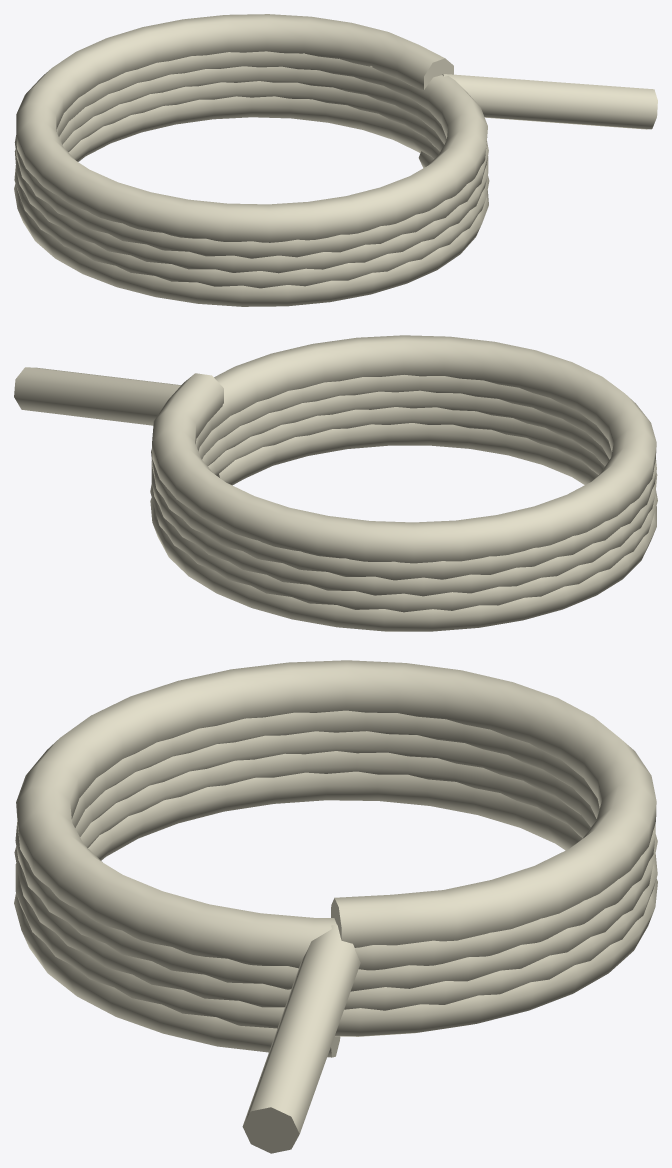
Rendered from scavengers-loot-library-rope-coil-2ec16a8d__2605.glb.
The picture shows the model from 3 angles, top to bottom: view 1: azimuth 30°, elevation 25°; view 2: azimuth 150°, elevation 25°; view 3: azimuth 270°, elevation 25°; orthographic projection. The views are drawn at different scales.
Visible parts, largest first — view 1: rope-coil; view 2: rope-coil; view 3: rope-coil.
Part boxes in pixels (x1,y1,x2,y2): rope-coil: [14, 14, 657, 306]; rope-coil: [14, 335, 657, 631]; rope-coil: [14, 660, 657, 1153].
Size of the model in its own units: 0.2816 by 0.0523 by 0.1978.
